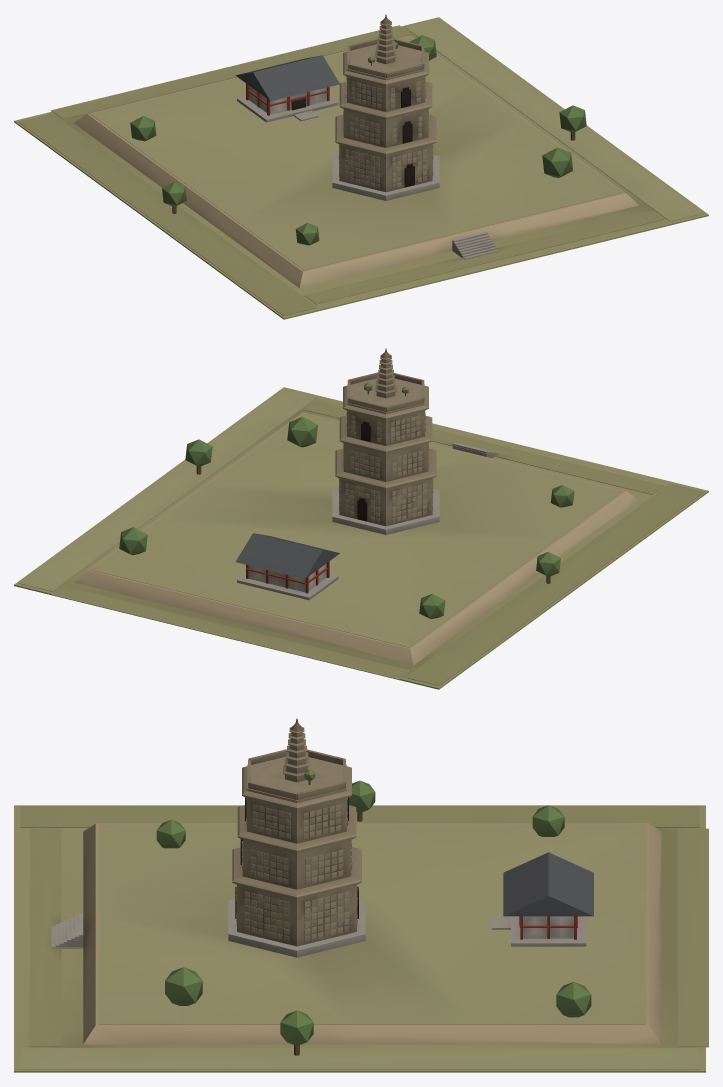
The model's file is fan-pagoda-qing.glb.
3 views of the same model, one above another, from view 1: azimuth 30°, elevation 25°; view 2: azimuth 150°, elevation 25°; view 3: azimuth 270°, elevation 25° (orthographic). The views are drawn at different scales.
Visible parts, largest first — view 1: p0_terrace, p1_halls, p2_trees; view 2: p0_terrace, p1_halls, p2_trees; view 3: p0_terrace, p1_halls, p2_trees.
Boxes of the visible parts, bbox=[...] form: p0_terrace: bbox=[14, 17, 708, 319]; p1_halls: bbox=[237, 51, 436, 192]; p2_trees: bbox=[130, 14, 586, 245]; p0_terrace: bbox=[14, 387, 708, 689]; p1_halls: bbox=[237, 385, 436, 600]; p2_trees: bbox=[119, 348, 574, 618]; p0_terrace: bbox=[14, 805, 708, 1072]; p1_halls: bbox=[232, 766, 586, 946]; p2_trees: bbox=[156, 718, 593, 1055].
Bounding box in the file's own units: 100 × 38.9 × 110.
